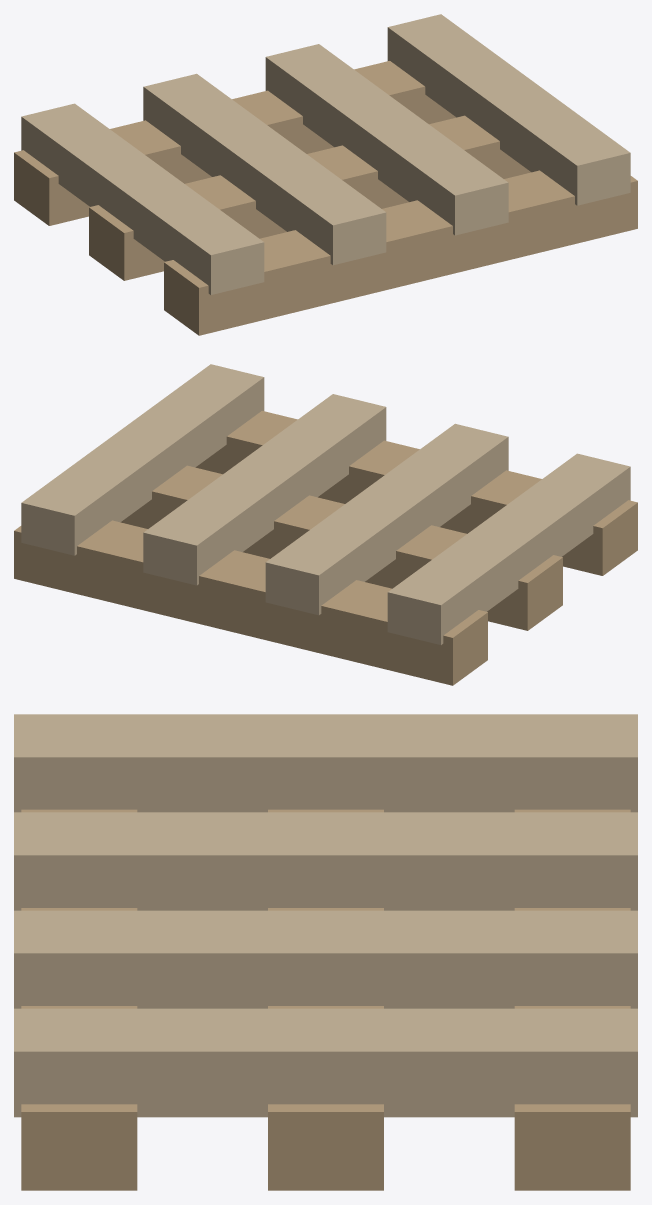
Rendered from warehouse_pallet.glb.
The picture shows the model from 3 angles, top to bottom: view 1: azimuth 30°, elevation 25°; view 2: azimuth 150°, elevation 25°; view 3: azimuth 270°, elevation 25°; orthographic projection. The views are drawn at different scales.
Visible parts, largest first — view 1: warehouse_pallet_002_Pallet_runner, warehouse_pallet_003_Pallet_board, warehouse_pallet_004_Pallet_board, warehouse_pallet_006_Pallet_board, warehouse_pallet_005_Pallet_board, warehouse_pallet_000_Pallet_runner, warehouse_pallet_001_Pallet_runner; view 2: warehouse_pallet_000_Pallet_runner, warehouse_pallet_003_Pallet_board, warehouse_pallet_004_Pallet_board, warehouse_pallet_006_Pallet_board, warehouse_pallet_005_Pallet_board, warehouse_pallet_002_Pallet_runner, warehouse_pallet_001_Pallet_runner; view 3: warehouse_pallet_006_Pallet_board, warehouse_pallet_004_Pallet_board, warehouse_pallet_005_Pallet_board, warehouse_pallet_003_Pallet_board, warehouse_pallet_000_Pallet_runner, warehouse_pallet_002_Pallet_runner, warehouse_pallet_001_Pallet_runner.
Boxes of the visible parts, box(x1,y1,x2,y2) form: warehouse_pallet_002_Pallet_runner: box(164, 170, 637, 335); warehouse_pallet_003_Pallet_board: box(21, 103, 264, 294); warehouse_pallet_004_Pallet_board: box(143, 73, 386, 265); warehouse_pallet_006_Pallet_board: box(387, 14, 630, 205); warehouse_pallet_005_Pallet_board: box(265, 44, 508, 235); warehouse_pallet_000_Pallet_runner: box(14, 61, 456, 225); warehouse_pallet_001_Pallet_runner: box(89, 115, 531, 280); warehouse_pallet_000_Pallet_runner: box(14, 520, 487, 685); warehouse_pallet_003_Pallet_board: box(387, 453, 630, 644); warehouse_pallet_004_Pallet_board: box(265, 423, 508, 615); warehouse_pallet_006_Pallet_board: box(21, 364, 264, 555); warehouse_pallet_005_Pallet_board: box(143, 394, 386, 585); warehouse_pallet_002_Pallet_runner: box(195, 411, 637, 575); warehouse_pallet_001_Pallet_runner: box(120, 465, 562, 630); warehouse_pallet_006_Pallet_board: box(14, 1008, 637, 1117); warehouse_pallet_004_Pallet_board: box(14, 812, 637, 910); warehouse_pallet_005_Pallet_board: box(14, 910, 637, 1008); warehouse_pallet_003_Pallet_board: box(14, 714, 637, 812); warehouse_pallet_000_Pallet_runner: box(514, 809, 630, 1190); warehouse_pallet_002_Pallet_runner: box(21, 809, 137, 1190); warehouse_pallet_001_Pallet_runner: box(268, 809, 383, 1190).
Bounding box in the file's own units: 1.15 × 0.2 × 0.86.
